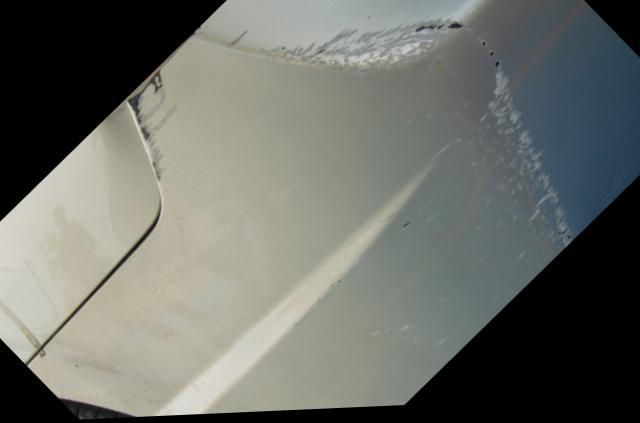scratch: (227, 16, 576, 350), (125, 73, 178, 179)
